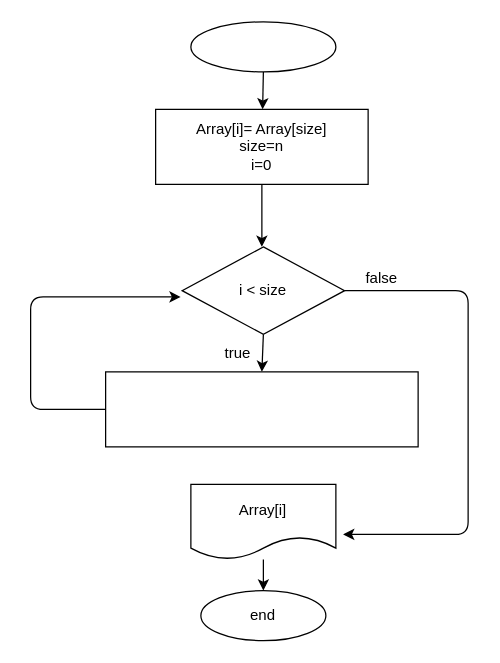
The diagram is 500 pixels wide and 663 high, and some of its shapes have lost their labels. The shapes that lost their labels are listed below. From the top down, each one's centre as x and y in pixels, then its label:
[263,46]: start
[261,409]: Arrai[i]=new Random().Next(0, 100) i++
